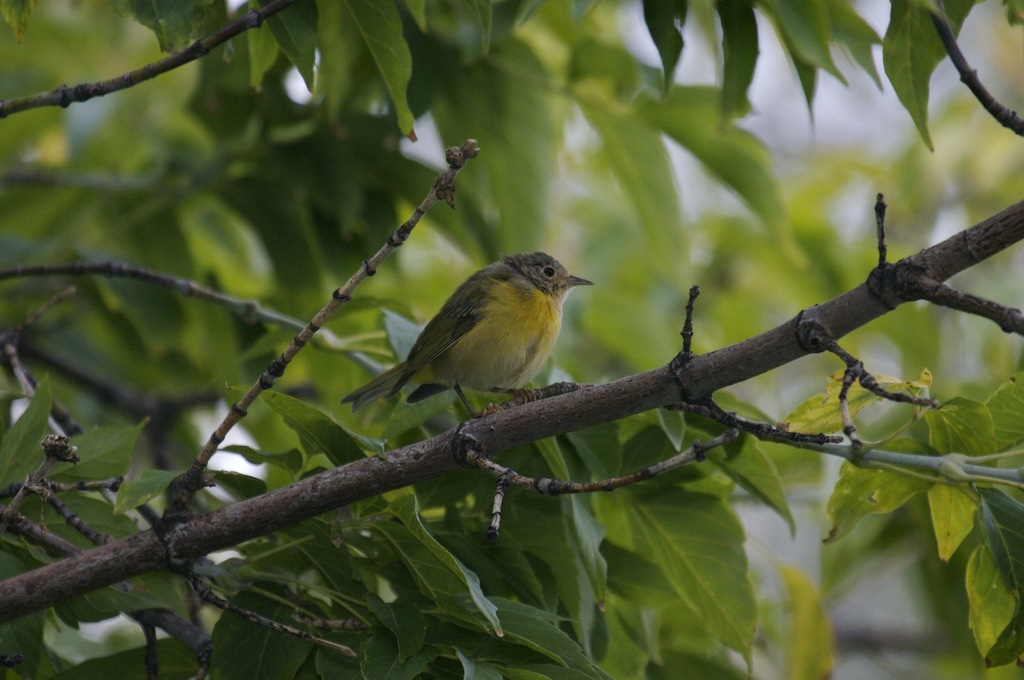Tree: (0, 0, 1022, 679)
